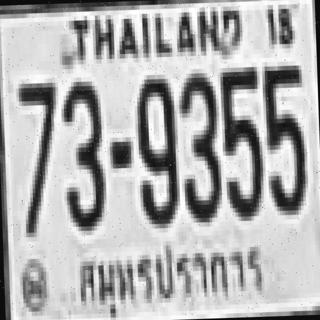N03: (60, 76, 104, 227), (178, 68, 220, 218)
N05: (218, 64, 263, 220), (260, 61, 305, 216)
N07: (15, 78, 58, 233)
N09: (133, 74, 178, 225)
P57: (72, 238, 266, 306)
